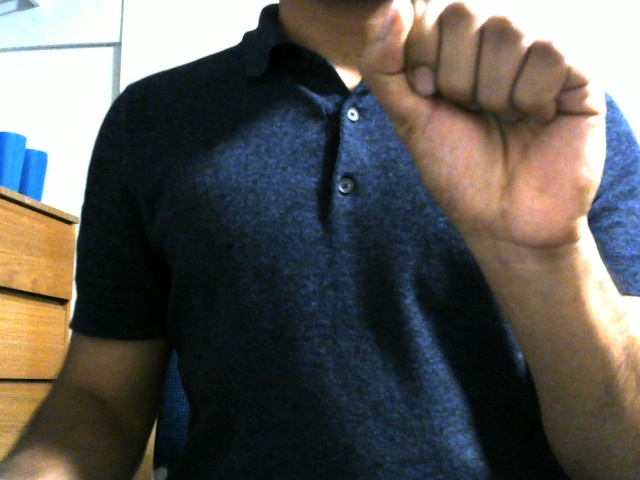A: (356, 2, 611, 252)
